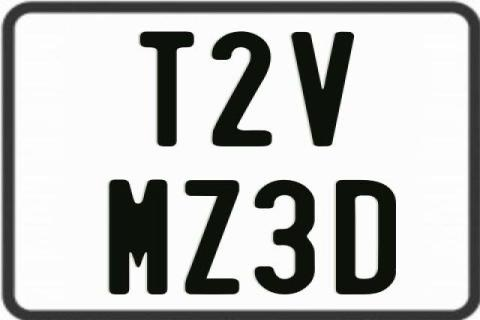0: (210, 31, 276, 147), (252, 180, 313, 296)
D: (335, 179, 396, 295)
M: (107, 177, 165, 297)
T: (139, 29, 196, 150)
V: (288, 30, 353, 144)
Z: (182, 178, 237, 296)
